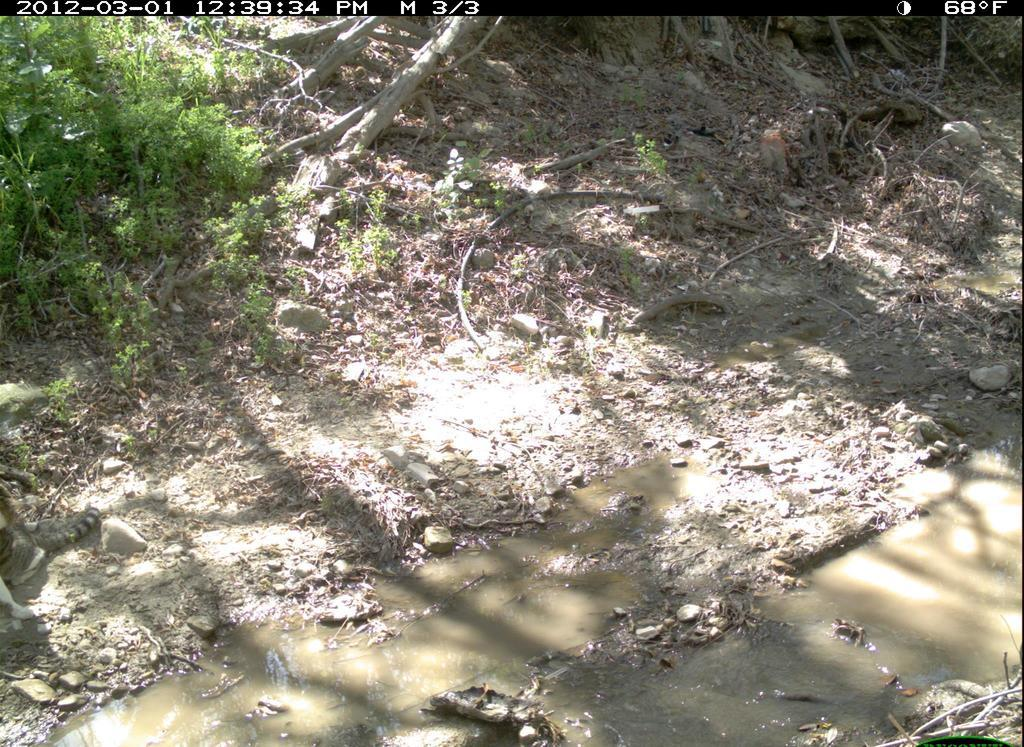cat: (2, 481, 117, 591)
